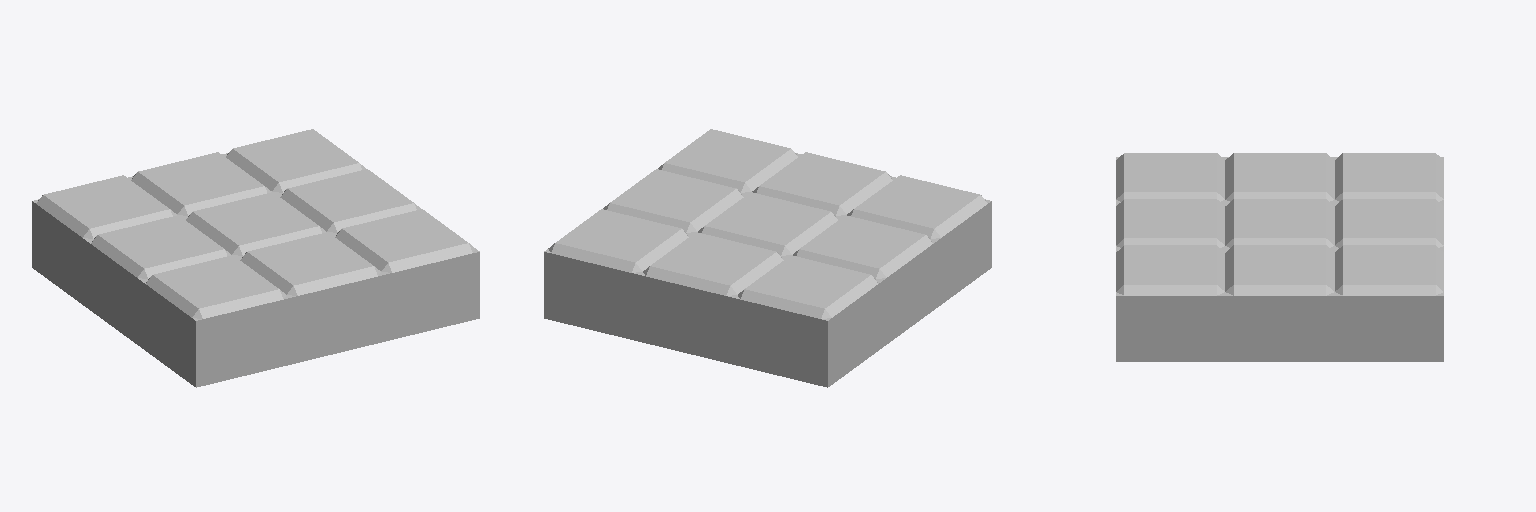
The model's file is floor_tiled.obj.
3 renders of one model, left to right at view 1: azimuth 30°, elevation 25°; view 2: azimuth 150°, elevation 25°; view 3: azimuth 270°, elevation 25°, orthographic.
Parts seen in each view (by area): view 1: floor_tiled; view 2: floor_tiled; view 3: floor_tiled.
Boxes of the visible parts, x1=… form: floor_tiled: x1=32, y1=129, x2=479, y2=387; floor_tiled: x1=544, y1=129, x2=991, y2=387; floor_tiled: x1=1116, y1=153, x2=1443, y2=361.
Size of the model in its own units: 2 by 0.5 by 2.